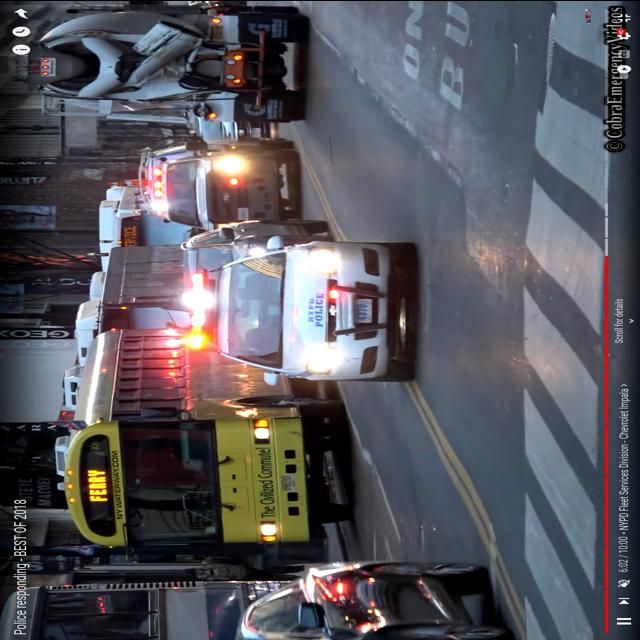emergency-vehicles: (169, 230, 413, 394), (127, 130, 296, 246)
